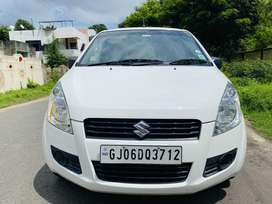GJ06DQ3712: (101, 146, 182, 164)
